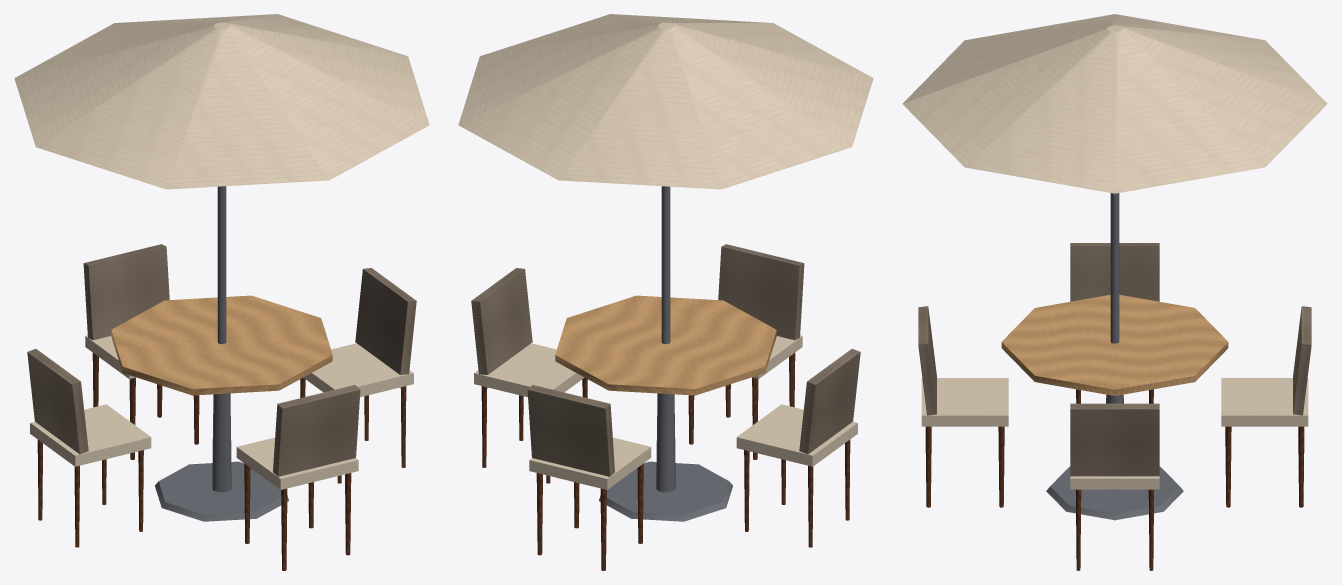
Rendered from outdoor_patio_set.glb.
3 views of the same model, side by side, from view 1: azimuth 30°, elevation 25°; view 2: azimuth 150°, elevation 25°; view 3: azimuth 270°, elevation 25° (orthographic).
Visible parts, largest first — view 1: outdoor_patio_set_fabricLinen, outdoor_patio_set_fabricVelvet, outdoor_patio_set_woodOak, outdoor_patio_set_metalBlack, outdoor_patio_set_woodWalnut; view 2: outdoor_patio_set_fabricLinen, outdoor_patio_set_fabricVelvet, outdoor_patio_set_woodOak, outdoor_patio_set_metalBlack, outdoor_patio_set_woodWalnut; view 3: outdoor_patio_set_fabricLinen, outdoor_patio_set_woodOak, outdoor_patio_set_fabricVelvet, outdoor_patio_set_metalBlack, outdoor_patio_set_woodWalnut.
Boxes of the visible parts, x1,y1,x2,y2 form: outdoor_patio_set_fabricLinen: [14, 14, 429, 489]; outdoor_patio_set_fabricVelvet: [27, 244, 416, 476]; outdoor_patio_set_woodOak: [111, 295, 332, 395]; outdoor_patio_set_metalBlack: [155, 186, 288, 521]; outdoor_patio_set_woodWalnut: [37, 353, 406, 570]; outdoor_patio_set_fabricLinen: [458, 14, 873, 489]; outdoor_patio_set_fabricVelvet: [471, 244, 860, 476]; outdoor_patio_set_woodOak: [555, 295, 776, 395]; outdoor_patio_set_metalBlack: [599, 186, 732, 521]; outdoor_patio_set_woodWalnut: [481, 353, 850, 570]; outdoor_patio_set_fabricLinen: [902, 14, 1327, 489]; outdoor_patio_set_woodOak: [1001, 294, 1228, 395]; outdoor_patio_set_fabricVelvet: [918, 243, 1311, 476]; outdoor_patio_set_metalBlack: [1046, 193, 1183, 520]; outdoor_patio_set_woodWalnut: [925, 389, 1304, 570].
Size of what is drawn, in the model's own units: 1.95 by 2.34 by 1.95.
Materials: 5 (4 with a texture image).
